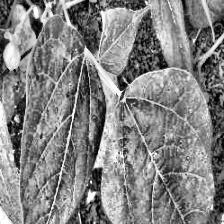ALS: (106, 78, 203, 224), (25, 40, 91, 224)
